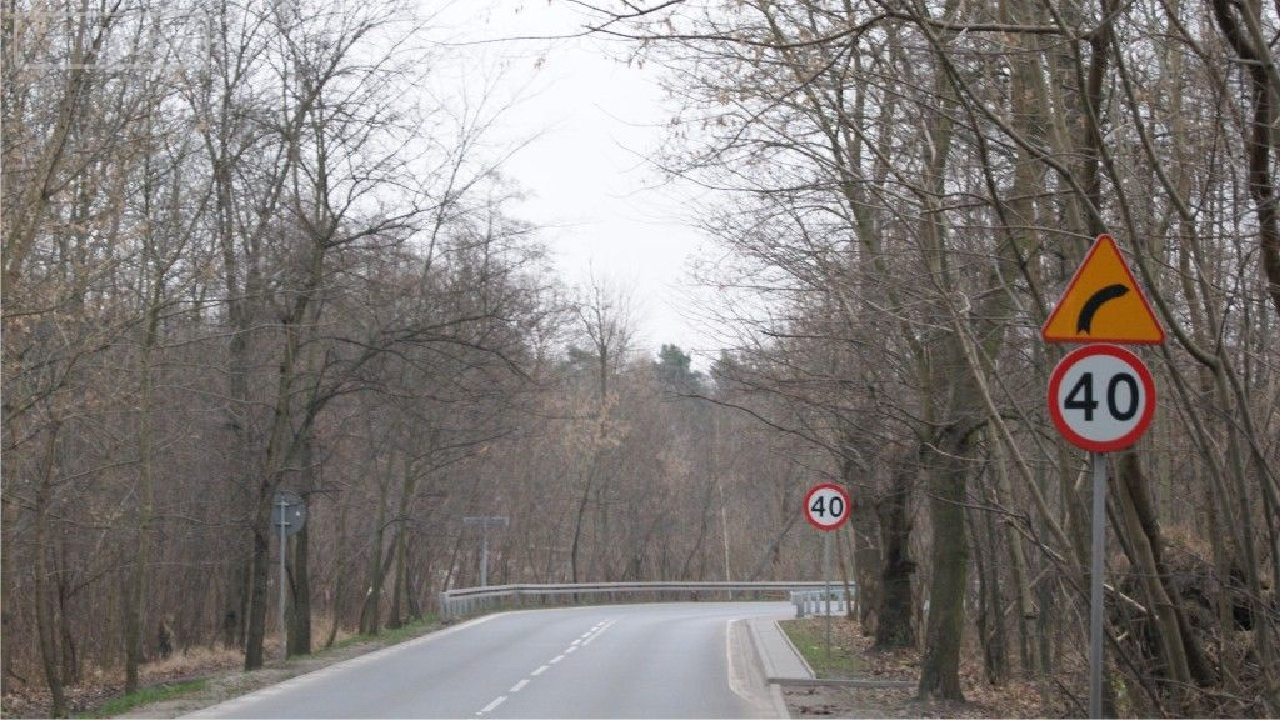A1: (1040, 227, 1168, 346)
B33_40: (1036, 341, 1176, 454), (801, 483, 857, 528)
